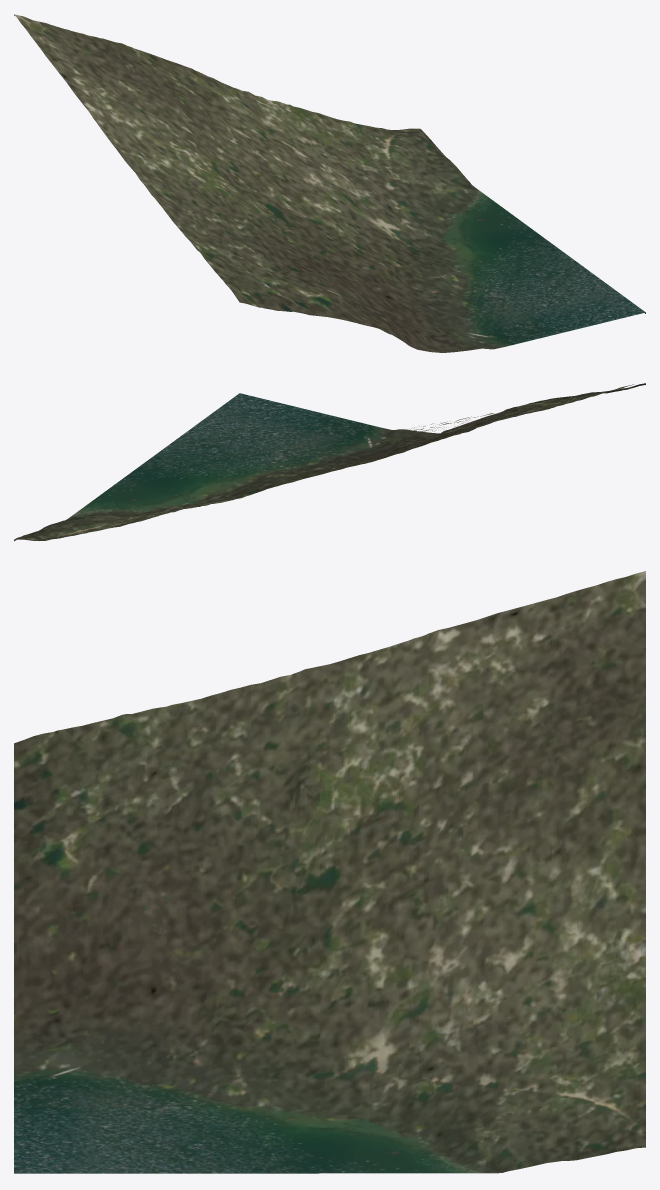
3 renders of one model, top to bottom at view 1: azimuth 30°, elevation 25°; view 2: azimuth 150°, elevation 25°; view 3: azimuth 270°, elevation 25°, orthographic. The views are drawn at different scales.
Bounding box in the file's own units: 250 × 138 × 241.
Materials: 1 (1 with a texture image).
